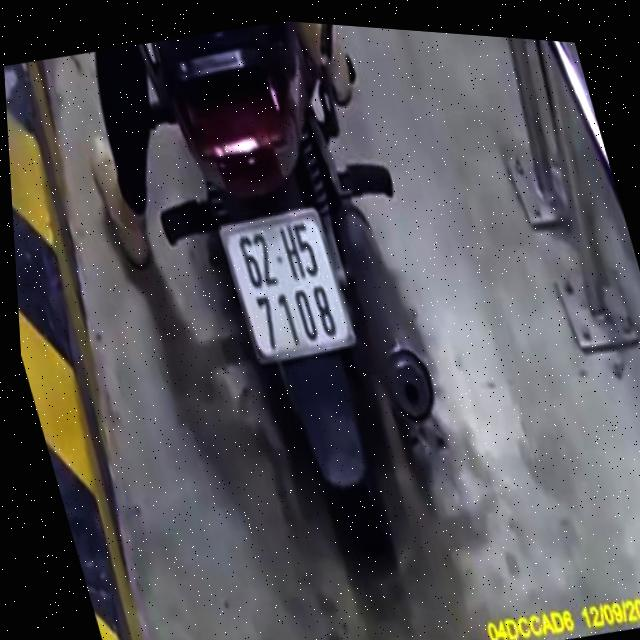motorcycle: (100, 7, 519, 617)
plate: (204, 189, 373, 381)
